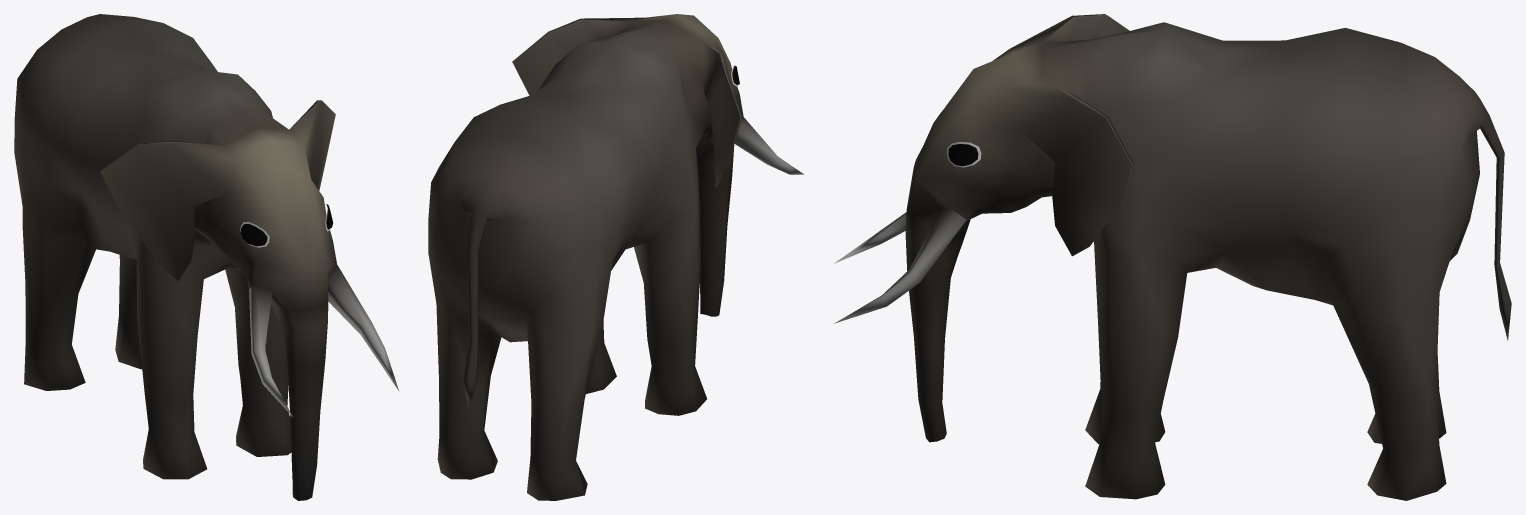
Rendered from kit-elephant.glb.
3 renders of one model, left to right at view 1: azimuth 30°, elevation 25°; view 2: azimuth 150°, elevation 25°; view 3: azimuth 270°, elevation 25°, orthographic. The views are drawn at different scales.
Visible parts, largest first — view 1: base; view 2: base; view 3: base.
Part boxes in pixels (x1,y1,x2,y2): base: (14, 14, 399, 500); base: (428, 14, 804, 500); base: (834, 14, 1511, 500).
Bounding box in the file's own units: 2.2 × 3.29 × 4.73.
